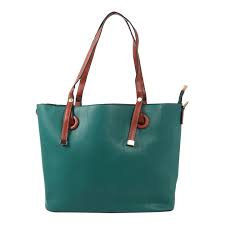bag: (36, 9, 195, 217)
